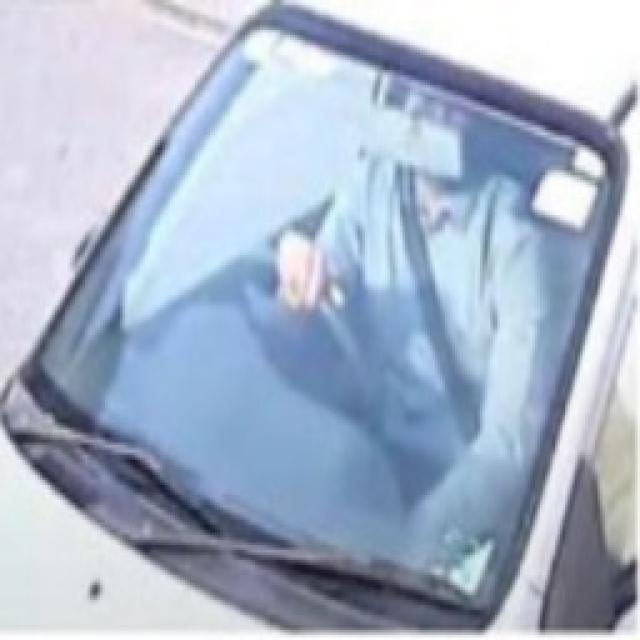windshield: (24, 9, 622, 624)
